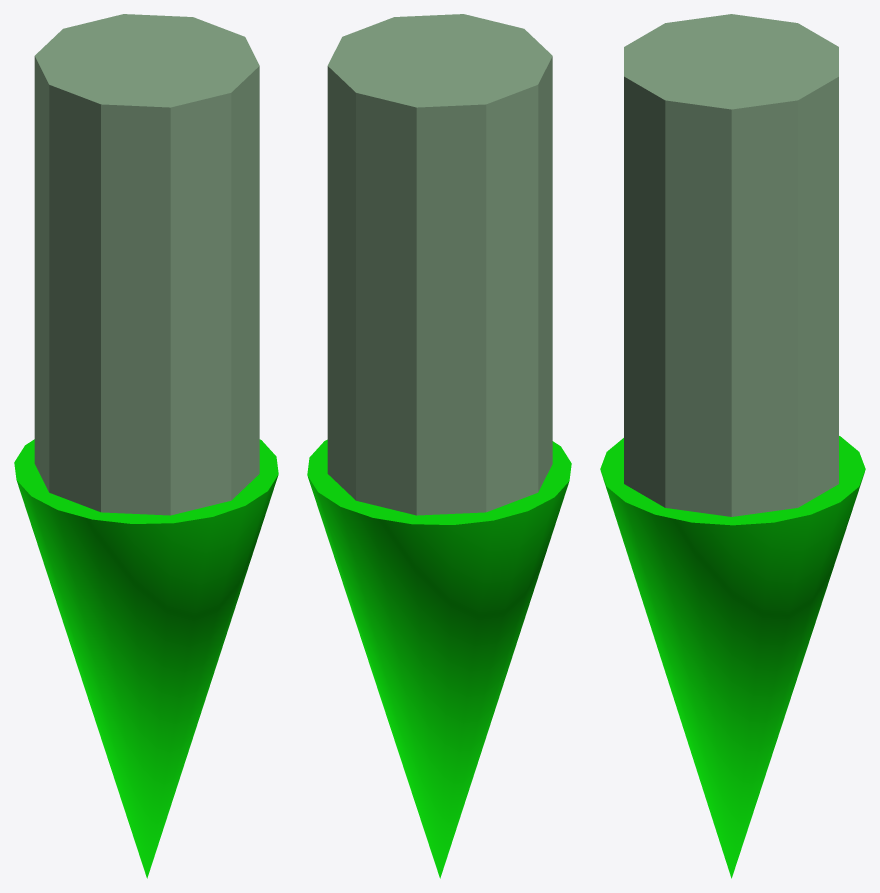
Rendered from Arrow.fbx.
The picture shows the model from 3 angles, left to right: view 1: azimuth 30°, elevation 25°; view 2: azimuth 150°, elevation 25°; view 3: azimuth 270°, elevation 25°; orthographic projection.
Visible parts, largest first — view 1: Arrow2; view 2: Arrow2; view 3: Arrow2.
Boxes of the visible parts, x1,y1,x2,y2 form: Arrow2: (14, 14, 278, 878); Arrow2: (307, 14, 571, 878); Arrow2: (600, 14, 865, 878).
Size of the model in its own units: 1.17 by 3.99 by 1.17.
